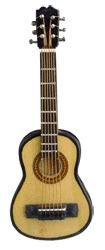guitar: (9, 4, 94, 241)
